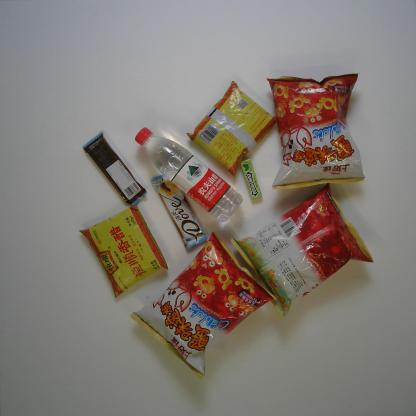Chocolate: (82, 130, 148, 207), (151, 170, 208, 251)
Drink: (134, 127, 244, 223)
Gum: (240, 158, 263, 200)
Puffed Food: (130, 230, 278, 380), (230, 182, 374, 320), (266, 72, 364, 189)
Seasoner: (186, 80, 278, 177), (79, 203, 169, 299)
